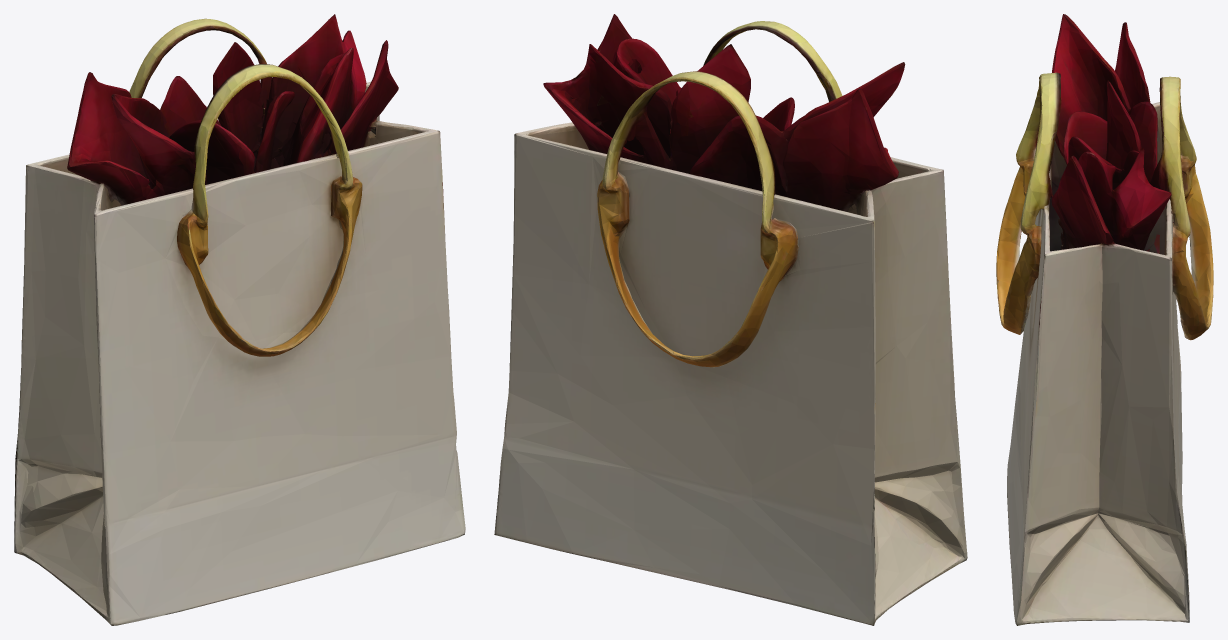
The model's file is plant_potted_gold_2.glb.
The picture shows the model from 3 angles, left to right: view 1: azimuth 30°, elevation 25°; view 2: azimuth 150°, elevation 25°; view 3: azimuth 270°, elevation 25°; orthographic projection. The views are drawn at different scales.
Visible parts, largest first — view 1: geometry_0; view 2: geometry_0; view 3: geometry_0.
Boxes of the visible parts, x1,y1,x2,y2 form: geometry_0: (14, 14, 465, 625); geometry_0: (494, 14, 967, 625); geometry_0: (996, 14, 1213, 625).
Size of the model in its own units: 0.7619 by 0.9964 by 0.4201.
1 material, 1 textured.
